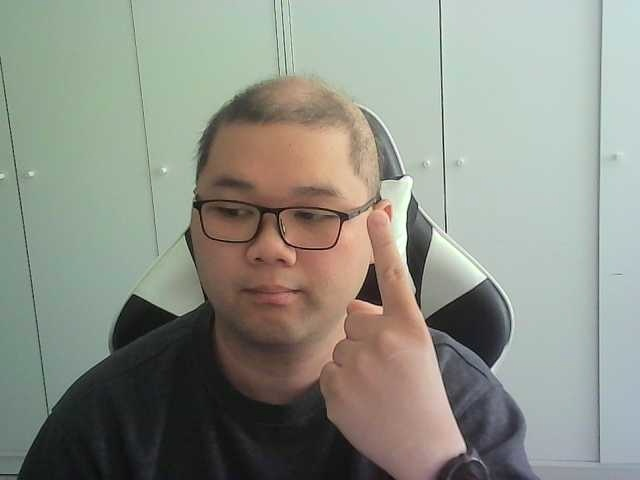One: (320, 209, 458, 450)
